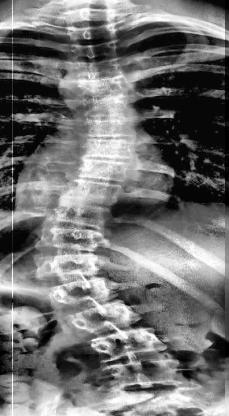Vertebrae: (34, 251, 122, 283), (44, 277, 126, 311), (92, 328, 170, 362), (105, 358, 179, 390), (69, 305, 141, 333), (38, 223, 106, 252), (50, 199, 110, 231), (78, 132, 138, 162), (68, 181, 121, 213), (76, 157, 132, 185), (80, 116, 140, 140), (76, 80, 136, 104), (75, 99, 139, 121), (74, 60, 128, 80), (67, 21, 119, 41), (70, 42, 122, 60)
